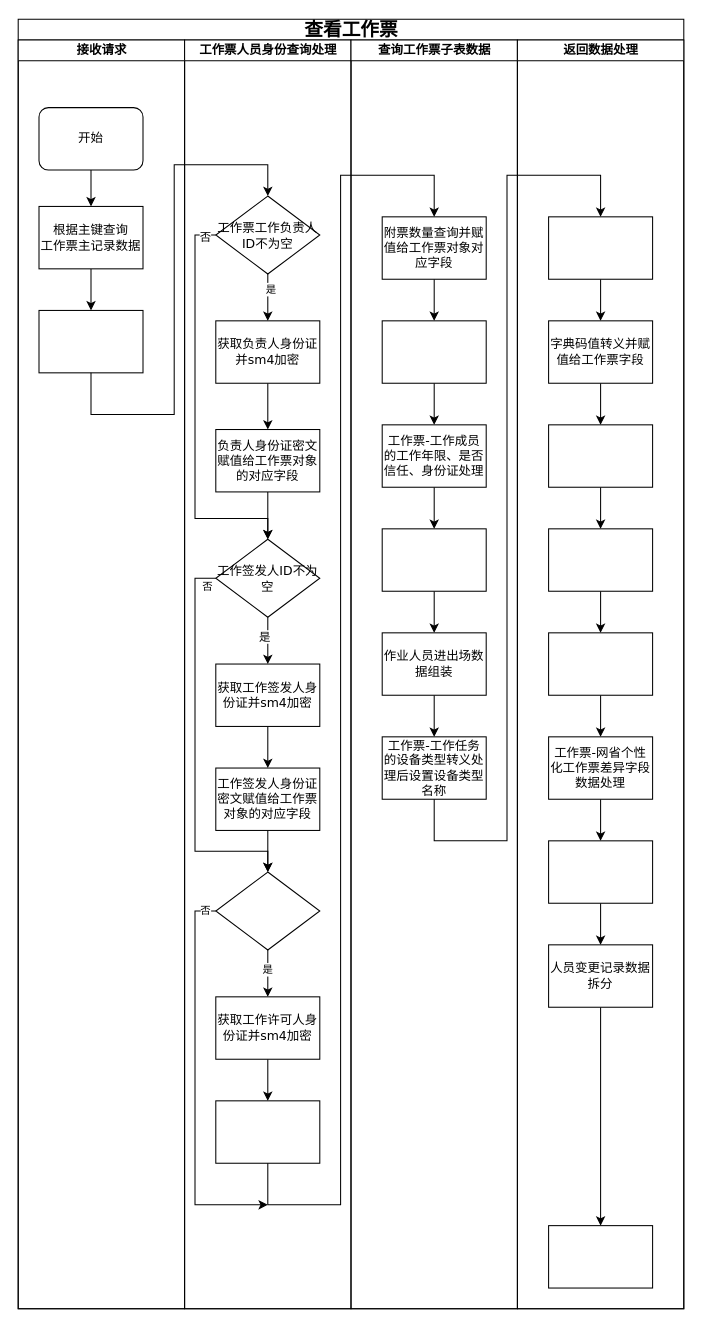
Some shapes in this 702 by 1327 pixel diagram are drawn without their labels. The shapes that lost their labels are listed below. From the top down, each one's centre as x and y in pixels, then its label:
At (x=600, y=247): "字典值查询".
At (x=90, y=341): "查询数据转换成响应对象".
At (x=433, y=351): "子表数据查询".
At (x=600, y=455): "查询工作票-分组记录关联数据设置打包分组ID、打包分组名称".
At (x=433, y=559): "工作票-工作人员变动数据中身份证加密处理".
At (x=600, y=559): "处理收开工数据".
At (x=600, y=663): "带电信息处理".
At (x=600, y=871): "工作人员变更信息包装处理".
At (x=267, y=910): "工作许可人ID不为空".
At (x=267, y=1131): "工作许可人身份证 密文赋值给工作票对象的对应字段".
At (x=600, y=1256): "成功返回".
